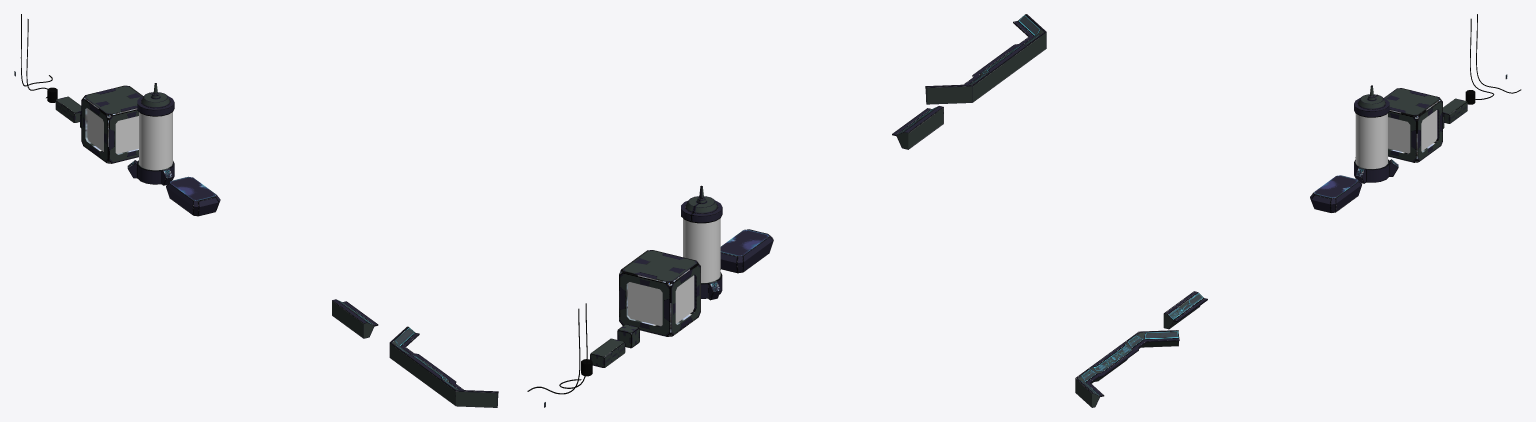
File: mothershipinterior.glb
3 renders of one model, left to right at view 1: azimuth 30°, elevation 25°; view 2: azimuth 150°, elevation 25°; view 3: azimuth 330°, elevation 25°, orthographic. The views are drawn at different scales.
Visible parts, largest first — view 1: CrateDefaultCube, Cube.001, Cylinder.001, Cylinder.003, Desk, Cube.002, CrateRectangle.001; view 2: CrateDefaultCube, Cube.001, Cylinder.001, Desk, Cylinder.003, Cube.002, CrateRectangle.001; view 3: CrateDefaultCube, Cube.001, Cylinder.001, Cylinder.003, Desk, Cube.002, CrateRectangle.001.
Part boxes in pixels (x1=…): CrateDefaultCube: x1=81, y1=85, x2=143, y2=163; Cube.001: x1=389, y1=326, x2=498, y2=407; Cylinder.001: x1=139, y1=112, x2=172, y2=170; Cylinder.003: x1=127, y1=83, x2=174, y2=185; Desk: x1=166, y1=176, x2=220, y2=216; Cube.002: x1=332, y1=299, x2=378, y2=338; CrateRectangle.001: x1=55, y1=96, x2=81, y2=122; CrateDefaultCube: x1=619, y1=250, x2=700, y2=336; Cube.001: x1=925, y1=14, x2=1046, y2=104; Cylinder.001: x1=683, y1=218, x2=720, y2=282; Desk: x1=720, y1=229, x2=773, y2=273; Cylinder.003: x1=681, y1=185, x2=722, y2=300; Cube.002: x1=892, y1=106, x2=943, y2=149; CrateRectangle.001: x1=590, y1=338, x2=625, y2=367; CrateDefaultCube: x1=1384, y1=88, x2=1442, y2=162; Cube.001: x1=1075, y1=330, x2=1179, y2=407; Cylinder.001: x1=1355, y1=113, x2=1387, y2=168; Cylinder.003: x1=1354, y1=85, x2=1398, y2=183; Desk: x1=1310, y1=175, x2=1361, y2=212; Cube.002: x1=1163, y1=291, x2=1207, y2=329; CrateRectangle.001: x1=1443, y1=98, x2=1467, y2=123.
Size of the model in its own units: 3.39 by 5.8 by 48.89.
Materials: 6 (3 with a texture image).
